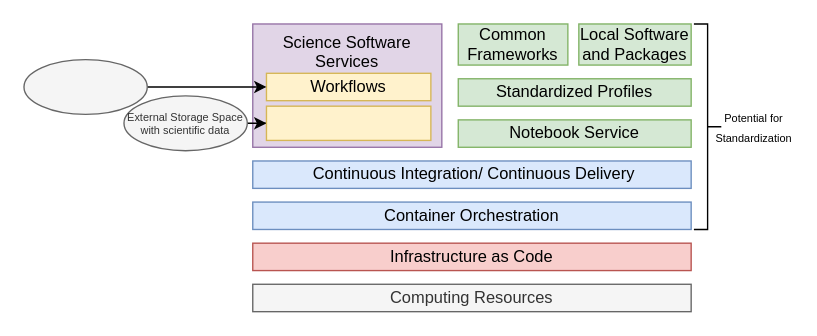
This 817x336 diagram has some shape labels left out. The shapes that lost their labels are listed below. From the top down, each one's centre as x and y in pixels, then its label:
the point at 85,86: High-Throughput Computing
the point at 348,122: Data Management
